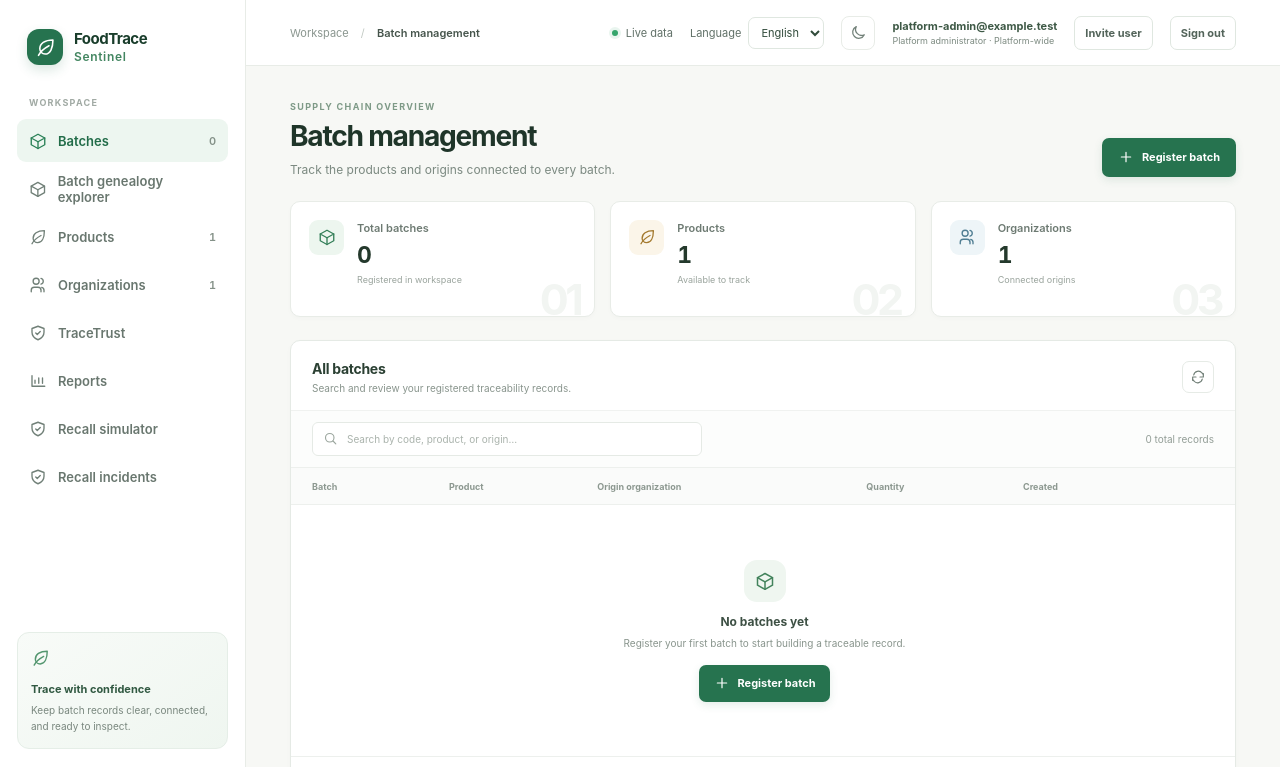
FoodTrace Sentinel batch dashboard › opens the Reports workspace section and requests report data from the API
Expected: the heading "Batch management" is shown, top-left (290, 119), bottom-right (536, 153)
Click the button "Reports" at x=122, y=380, box top-left (17, 359), bottom-right (228, 402)
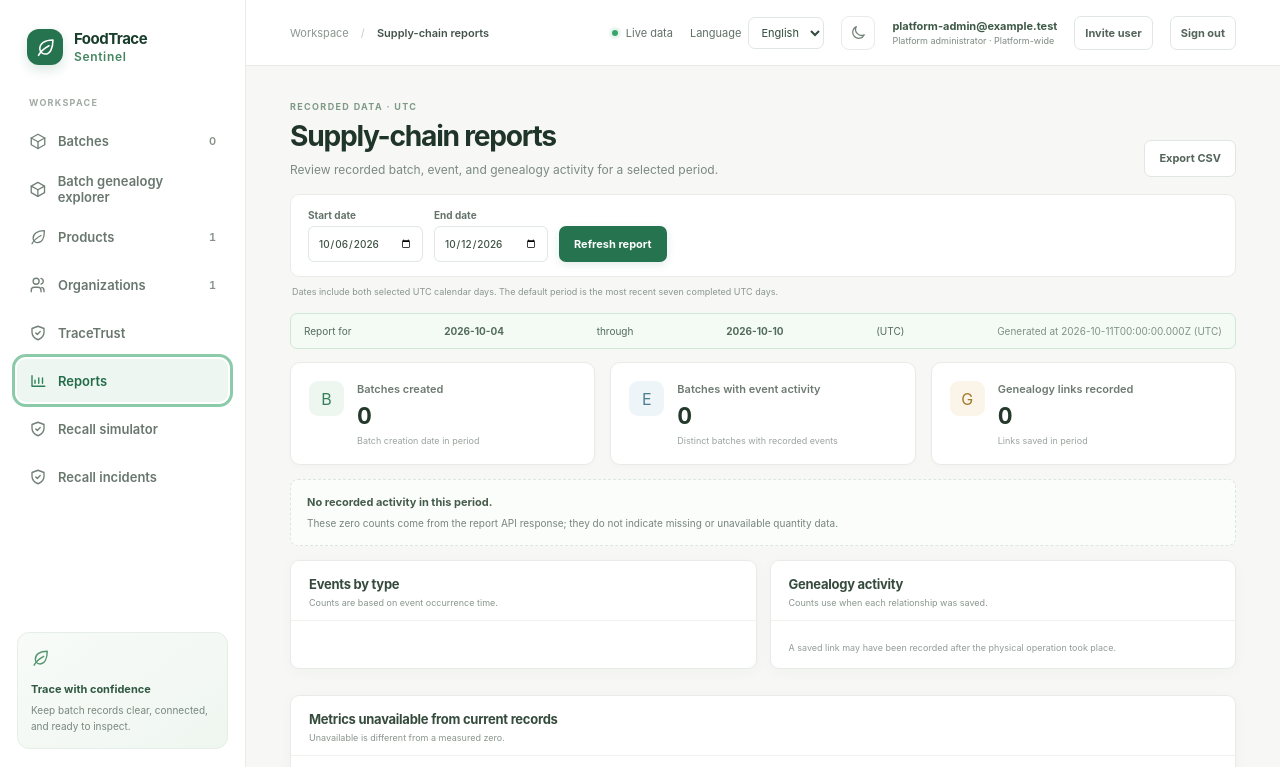
Expected: the heading "Supply-chain reports" is shown, top-left (290, 119), bottom-right (556, 153)
